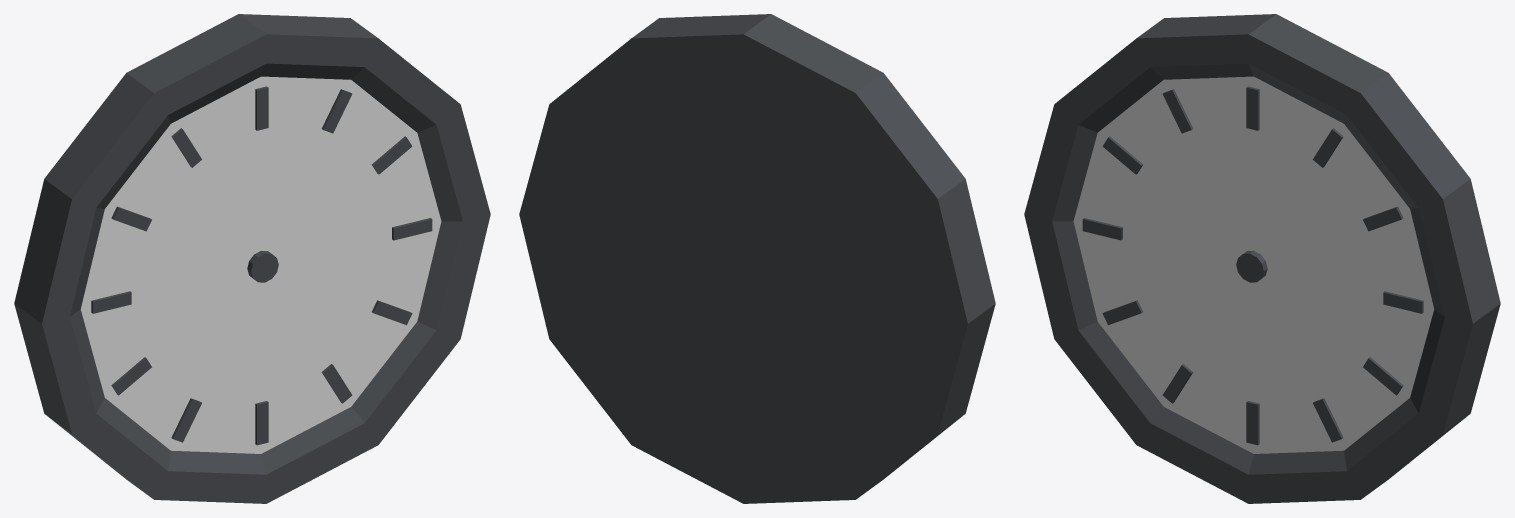
File: Clock1_C3.fbx
The picture shows the model from 3 angles, left to right: view 1: azimuth 30°, elevation 25°; view 2: azimuth 150°, elevation 25°; view 3: azimuth 330°, elevation 25°; orthographic projection.
Parts seen in each view (by area): view 1: Clock1_C3; view 2: Clock1_C3; view 3: Clock1_C3.
Boxes of the visible parts, x1,y1,x2,y2 form: Clock1_C3: (14,14,490,503); Clock1_C3: (519,14,995,503); Clock1_C3: (1024,14,1500,503).
Bounding box in the file's own units: 29.02 × 29.02 × 3.12.
